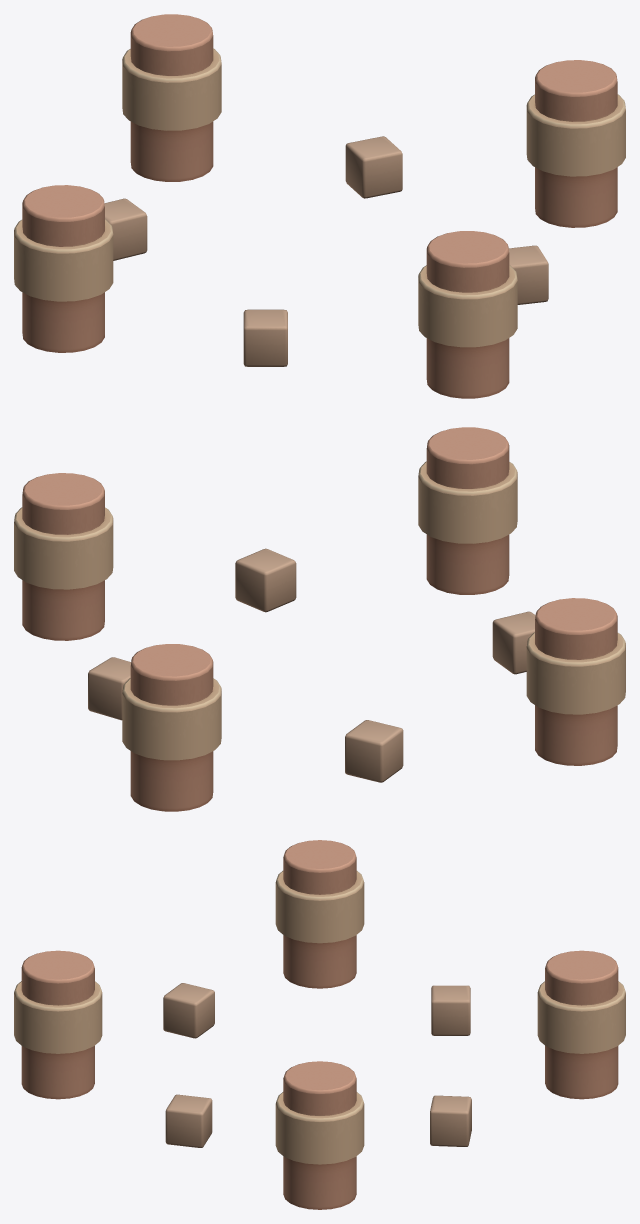
The model's file is Props.fbx.
The picture shows the model from 3 angles, top to bottom: view 1: azimuth 30°, elevation 25°; view 2: azimuth 150°, elevation 25°; view 3: azimuth 270°, elevation 25°; orthographic projection. The views are drawn at different scales.
Parts seen in each view (by area): view 1: Cylinder-2 (2), Cylinder-2 (1), Cylinder-2 (3), Cylinder-2, Box1-5 (3), Box1-5, Box1-5 (2), Box1-5 (1); view 2: Cylinder-2 (1), Cylinder-2 (2), Cylinder-2 (3), Cylinder-2, Box1-5 (1), Box1-5 (2), Box1-5, Box1-5 (3); view 3: Cylinder-2 (3), Cylinder-2, Cylinder-2 (1), Cylinder-2 (2), Box1-5, Box1-5 (1), Box1-5 (3), Box1-5 (2).
Boxes of the visible parts, <box> form: Cylinder-2 (2): <box>418,231,517,398</box>; Cylinder-2 (1): <box>122,14,221,181</box>; Cylinder-2 (3): <box>526,60,625,227</box>; Cylinder-2: <box>14,185,113,352</box>; Box1-5 (3): <box>345,136,402,198</box>; Box1-5: <box>243,309,287,366</box>; Box1-5 (2): <box>104,198,147,260</box>; Box1-5 (1): <box>508,245,548,304</box>; Cylinder-2 (1): <box>122,644,221,811</box>; Cylinder-2 (2): <box>418,427,517,594</box>; Cylinder-2 (3): <box>14,473,113,640</box>; Cylinder-2: <box>526,598,625,765</box>; Box1-5 (1): <box>235,548,296,612</box>; Box1-5 (2): <box>345,720,403,782</box>; Box1-5: <box>492,611,535,674</box>; Box1-5 (3): <box>88,657,130,720</box>; Cylinder-2 (3): <box>275,1061,364,1209</box>; Cylinder-2: <box>275,840,364,988</box>; Cylinder-2 (1): <box>537,950,625,1099</box>; Cylinder-2 (2): <box>14,950,102,1099</box>; Box1-5: <box>163,983,214,1038</box>; Box1-5 (1): <box>165,1094,212,1147</box>; Box1-5 (3): <box>430,1095,471,1146</box>; Box1-5 (2): <box>431,985,470,1035</box>.
Bounding box in the file's own units: 23.38 × 5 × 23.38.
Materials: 2 (2 with a texture image).
